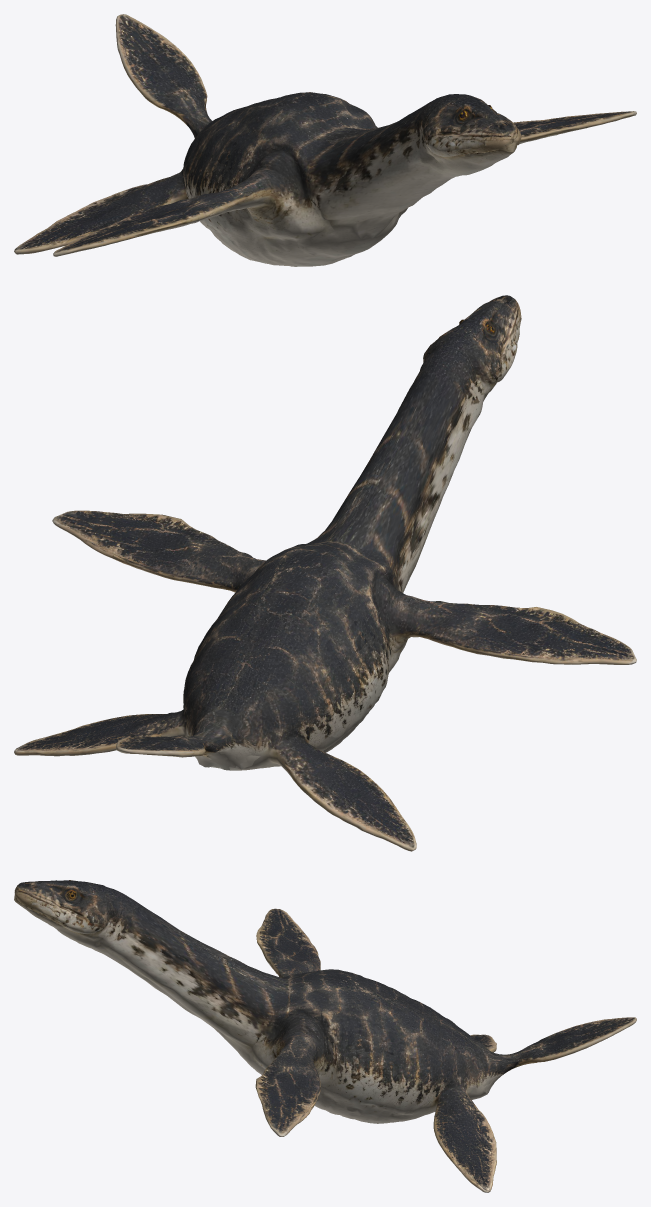
The model's file is rhaeticosaurus.preview.glb.
3 views of the same model, one above another, from view 1: azimuth 30°, elevation 25°; view 2: azimuth 150°, elevation 25°; view 3: azimuth 270°, elevation 25° (orthographic). The views are drawn at different scales.
Visible parts, largest first — view 1: tripo_node_fc7ac57e-a434-417d-9c85-cd53116e6664.001; view 2: tripo_node_fc7ac57e-a434-417d-9c85-cd53116e6664.001; view 3: tripo_node_fc7ac57e-a434-417d-9c85-cd53116e6664.001.
Boxes of the visible parts, x1=… form: tripo_node_fc7ac57e-a434-417d-9c85-cd53116e6664.001: x1=14, y1=14, x2=636, y2=266; tripo_node_fc7ac57e-a434-417d-9c85-cd53116e6664.001: x1=14, y1=295, x2=636, y2=851; tripo_node_fc7ac57e-a434-417d-9c85-cd53116e6664.001: x1=14, y1=880, x2=636, y2=1192.
Size of the model in its own units: 1 by 0.4837 by 1.16.
1 material, 1 textured.
